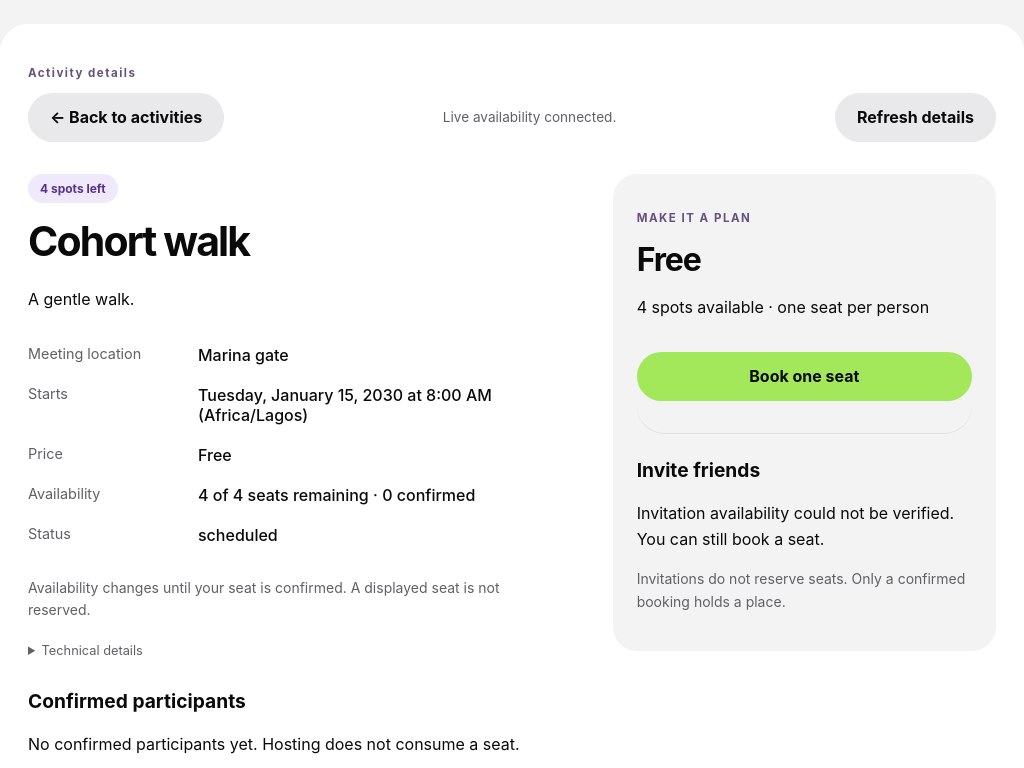
ordinary booking still confirms when invitation policy fields are malformed
Check: the text "Invitation availability could not be verified. You can still book a seat." is shown, box [637,501,972,552]
Click the button "Book one seat" at (804, 377), box [637,352,972,401]
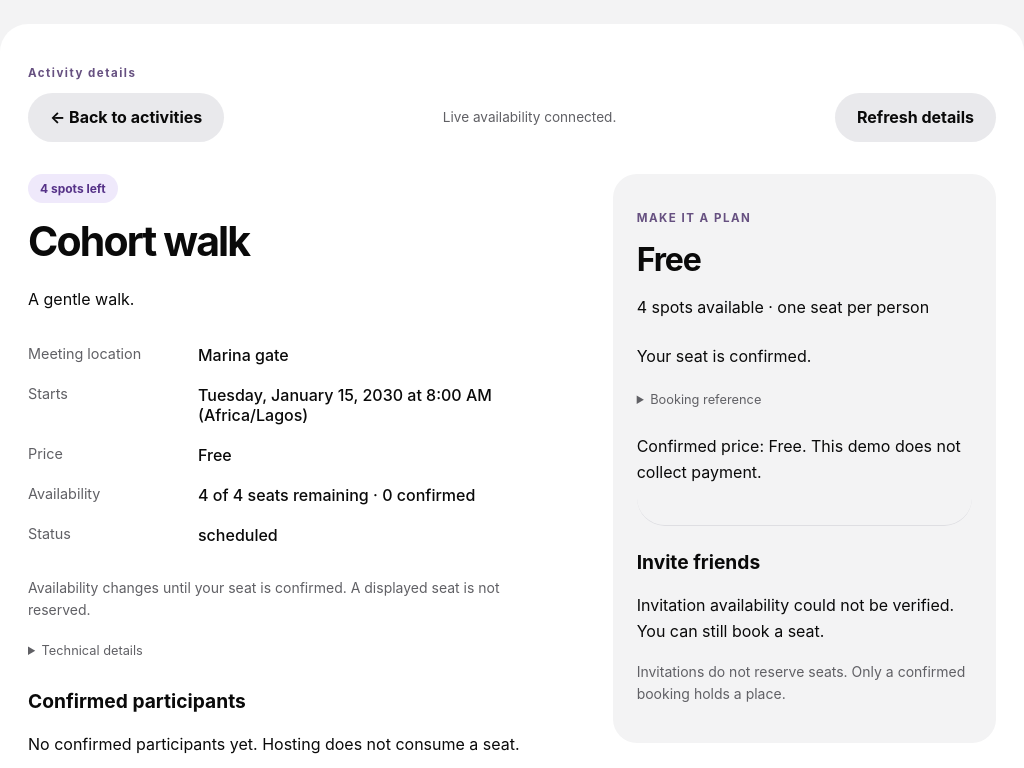
Check: the text "Your seat is confirmed." is shown, box [637,346,811,366]
